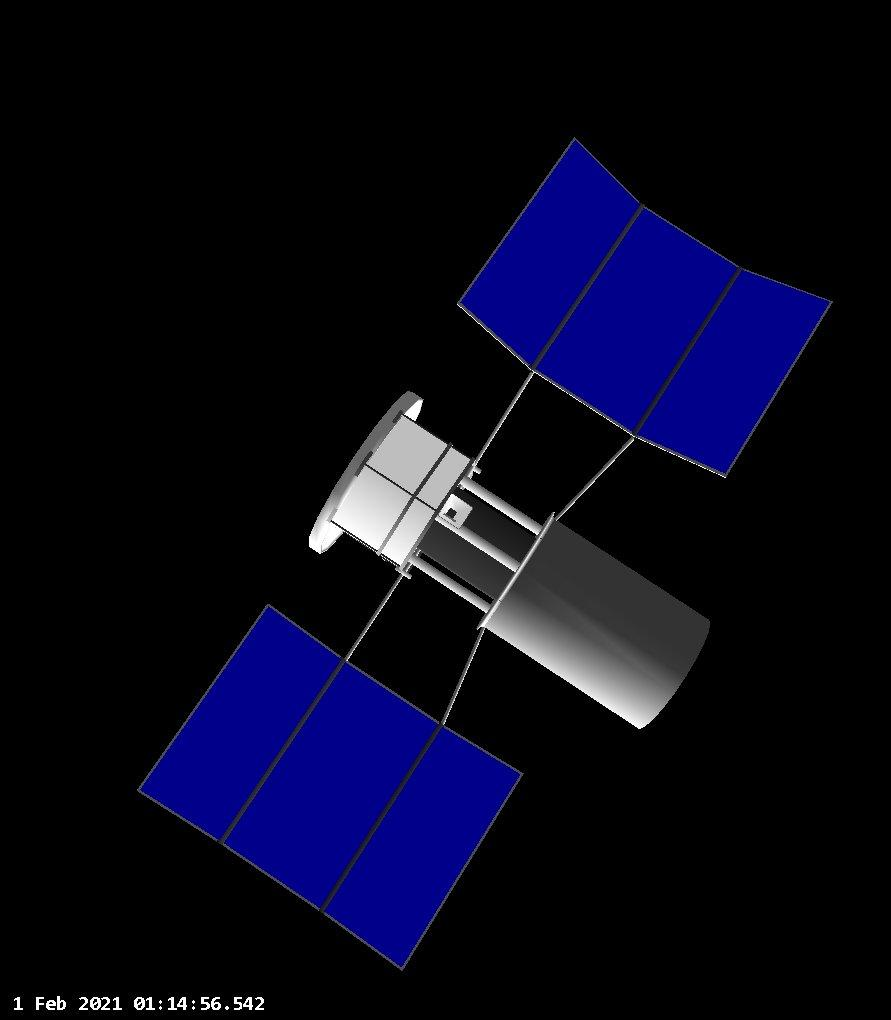antenna: (305, 386, 426, 557)
body: (326, 412, 716, 731)
solar: (136, 603, 526, 975), (456, 135, 837, 482)
